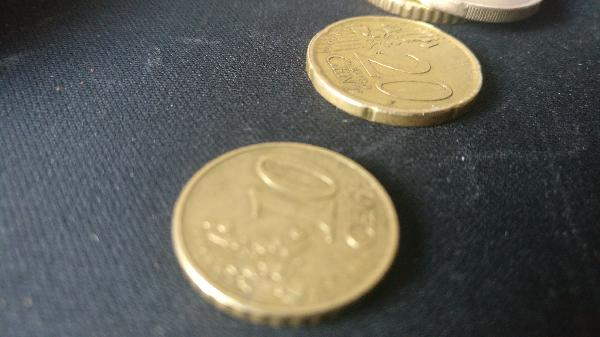Ten Cent: (163, 135, 413, 325)
Twenty Cent: (305, 15, 490, 127)
